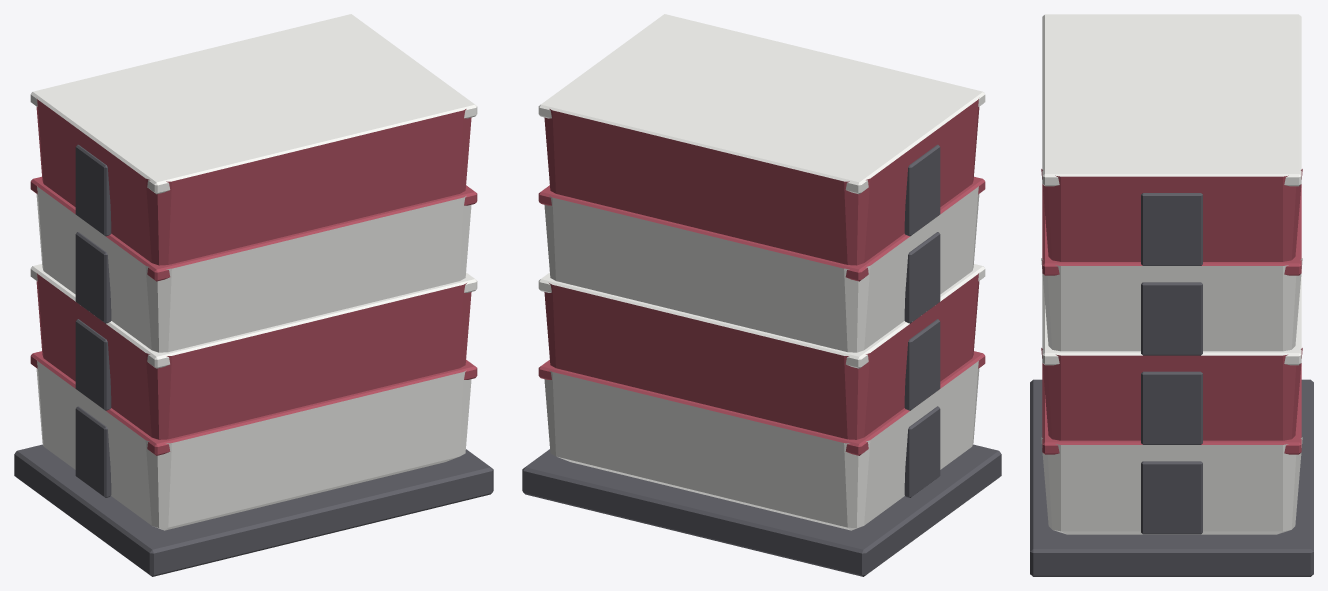
Rendered from butchers-shop-and-deli-counter-stock-crate-stack-39c5de87__34461.glb.
3 views of the same model, side by side, from view 1: azimuth 30°, elevation 25°; view 2: azimuth 150°, elevation 25°; view 3: azimuth 270°, elevation 25° (orthographic). The views are drawn at different scales.
Visible parts, largest first — view 1: stock-crate-stack; view 2: stock-crate-stack; view 3: stock-crate-stack.
Boxes of the visible parts, left/top/right/bottom form: stock-crate-stack: left=14, top=14, right=493, bottom=576; stock-crate-stack: left=522, top=14, right=1001, bottom=576; stock-crate-stack: left=1030, top=14, right=1313, bottom=576.
Size of the model in its own units: 0.66 by 0.712 by 0.46.
